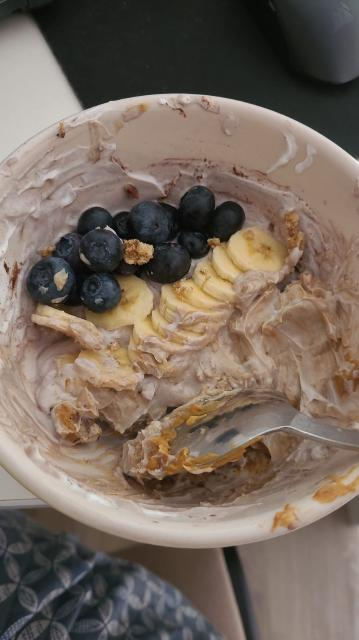Metal: (125, 374, 359, 490)
Organik: (42, 180, 316, 402)
